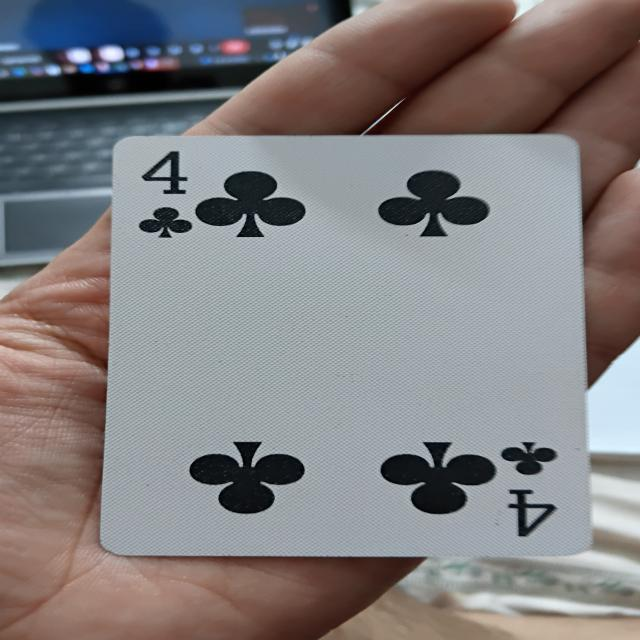4C: (92, 123, 587, 566)
